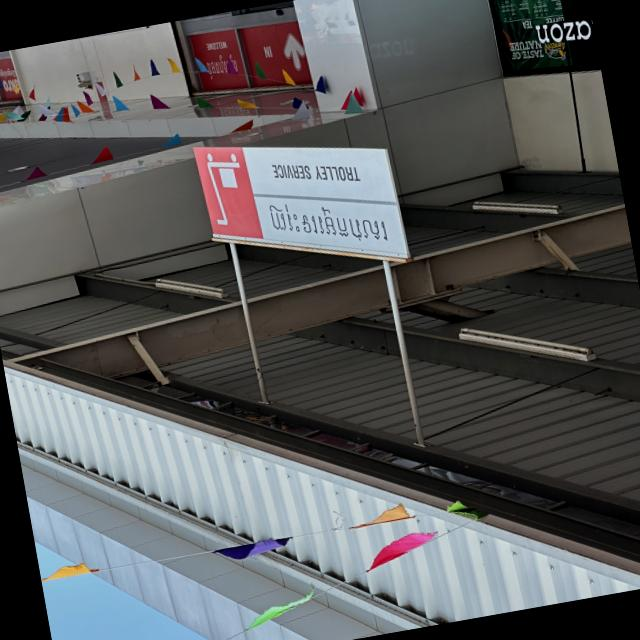Yolov11_80vkh: (260, 199, 401, 246)
